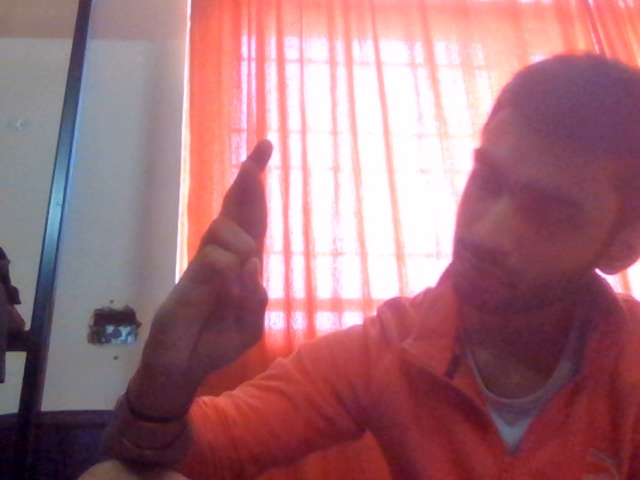R: (132, 122, 318, 415)
